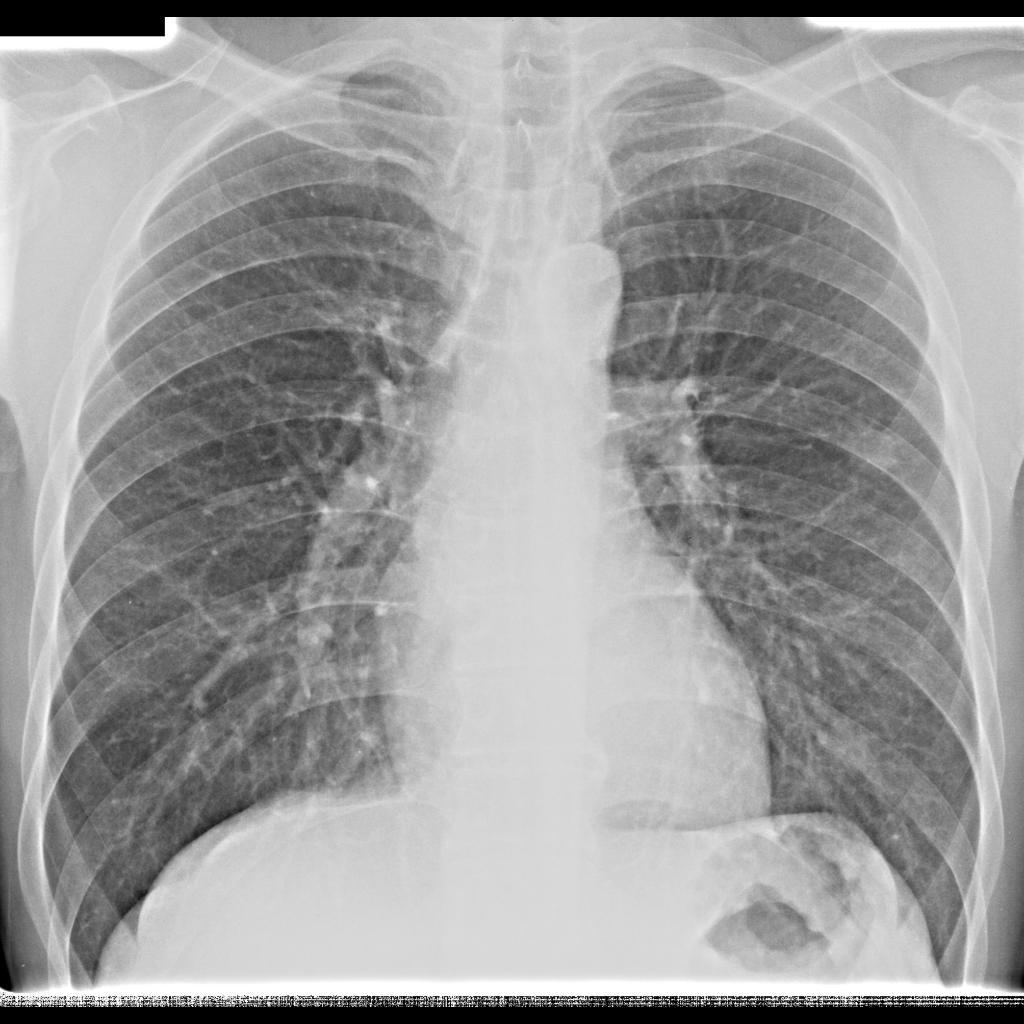Nodule: (848, 430, 894, 476)
